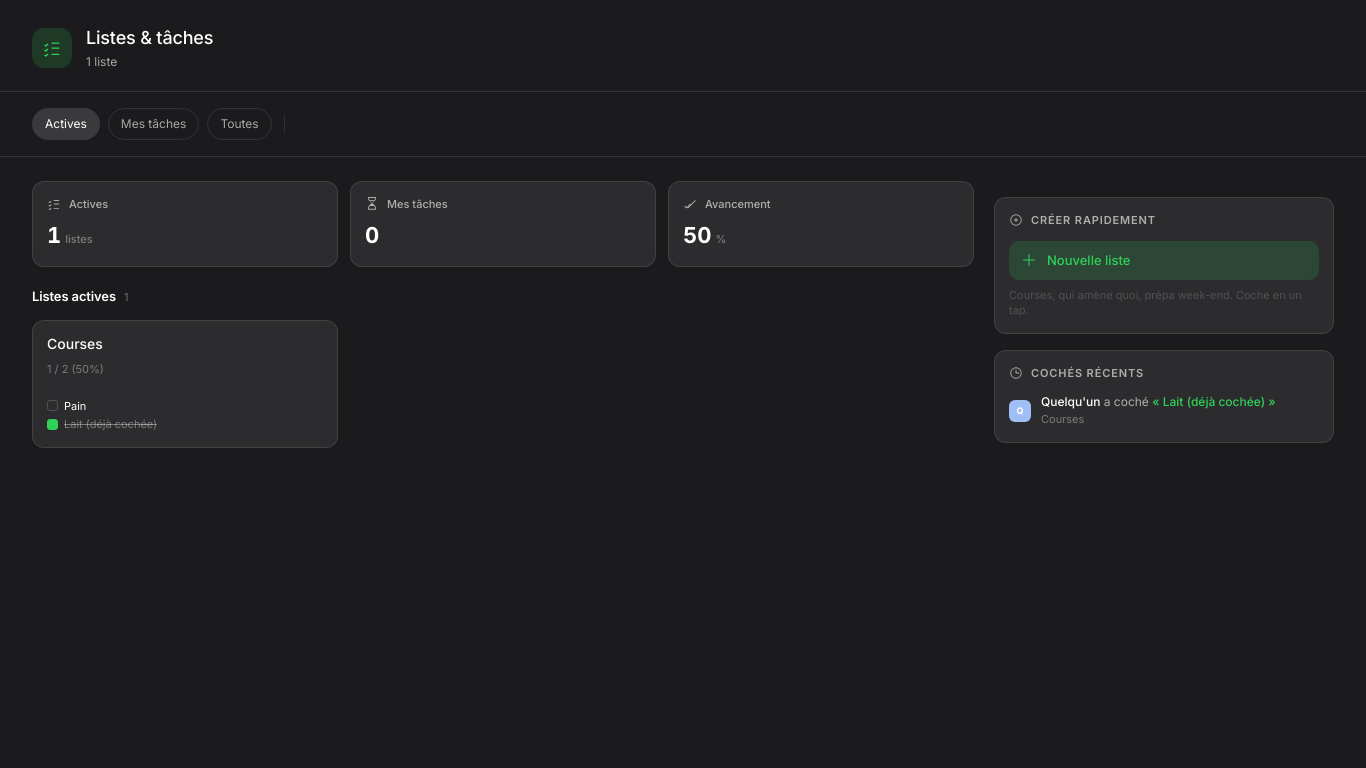
Actions destructives — grisées, jamais masquées (MAN-246) › TodosDashboard › laisse « Supprimer » visible et inerte pour un membre simple qui n'est pas l'auteur
The image size is (1366, 768).
Click the button "Courses 1 / 2 (50%) Pain Lait (déjà cochée)": (75, 344) x1=32 y1=320 x2=338 y2=448
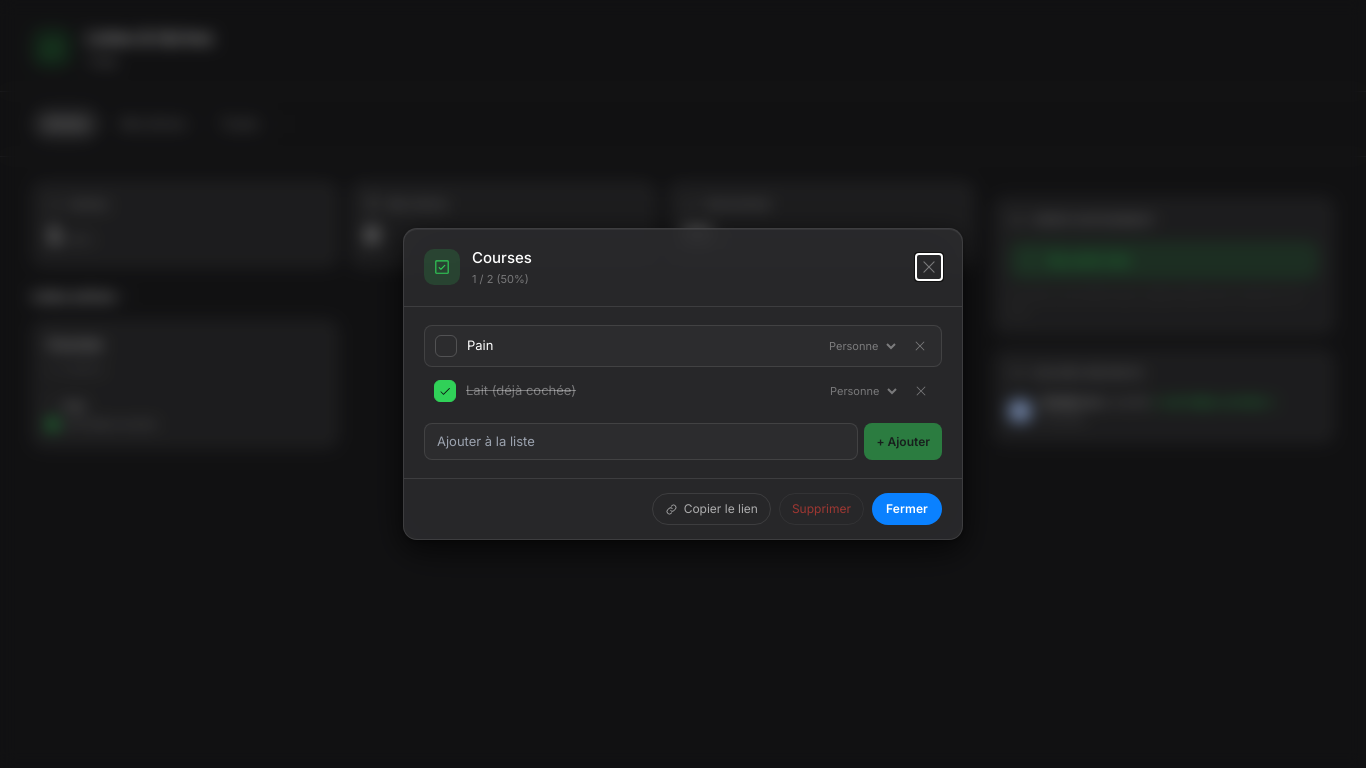
Result: the button "Supprimer" is shown at x1=779 y1=493 x2=864 y2=525
